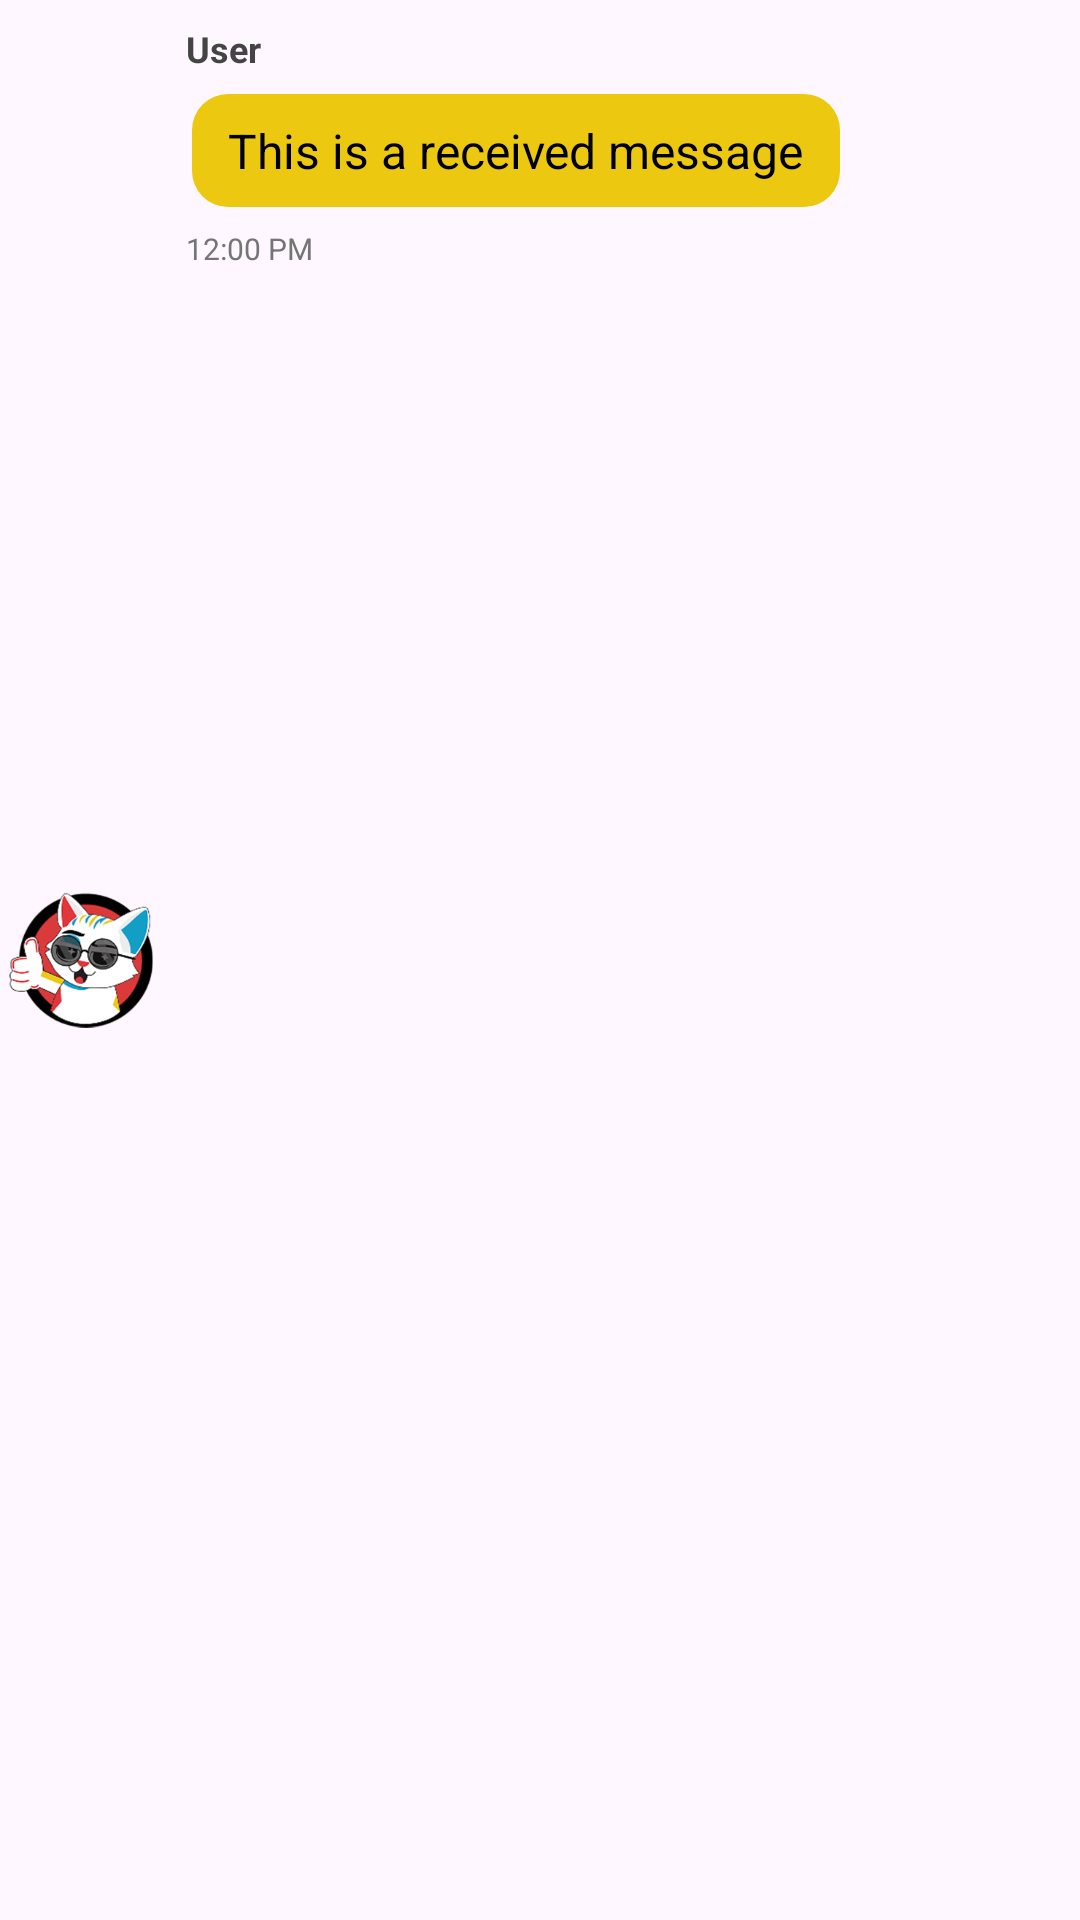

Screen size 1080×1920. Icon name, then its box in pixels as BBox(x1, y1, x2, y2):
account: BBox(9, 893, 153, 1028)
